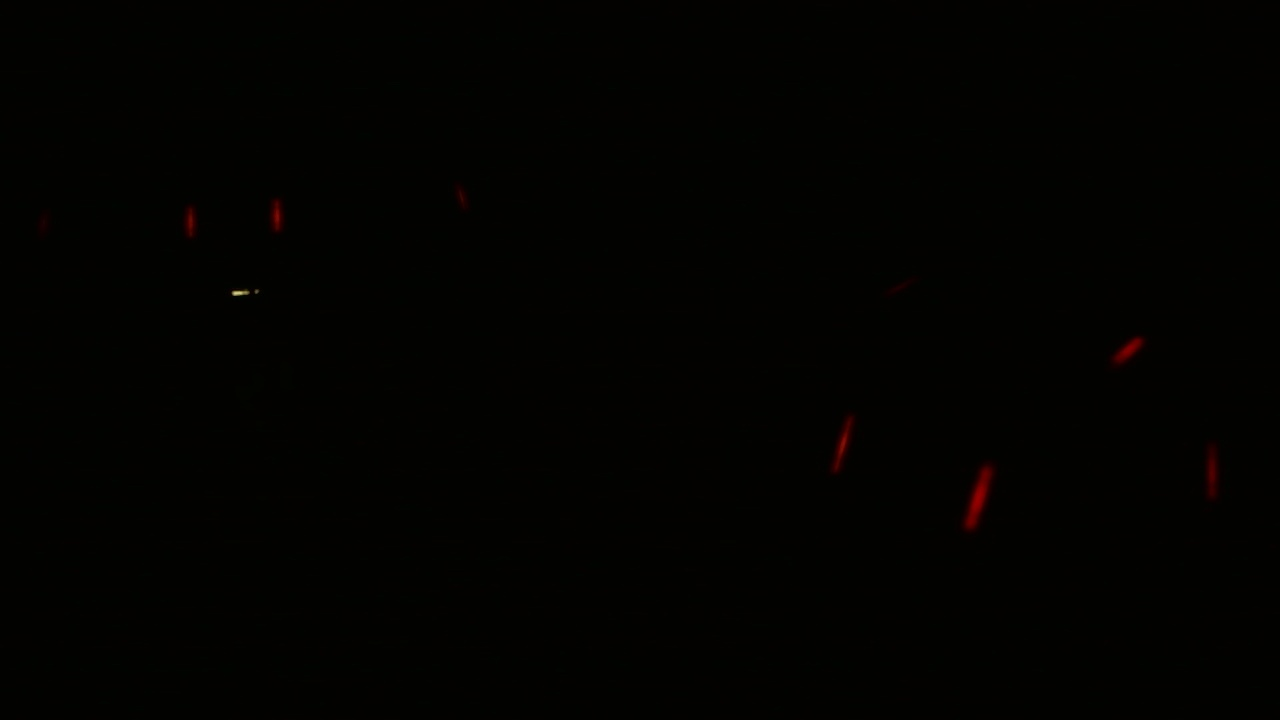pair1: (832, 406, 994, 536), (174, 198, 290, 249)
